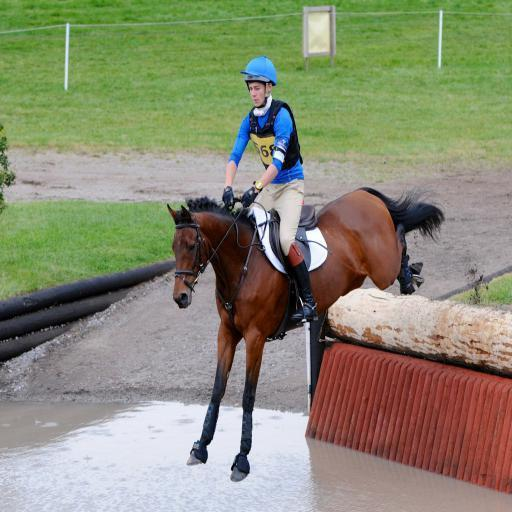horse: (166, 184, 445, 482)
